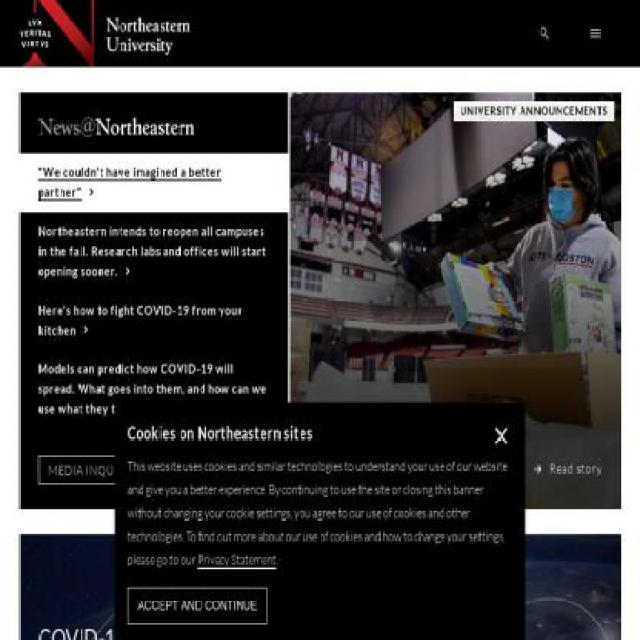button: (19, 212, 288, 292), (19, 350, 288, 430), (19, 152, 288, 212), (19, 291, 288, 351), (38, 118, 288, 145), (128, 588, 268, 624), (37, 456, 151, 484), (532, 454, 603, 484), (198, 551, 276, 569)
